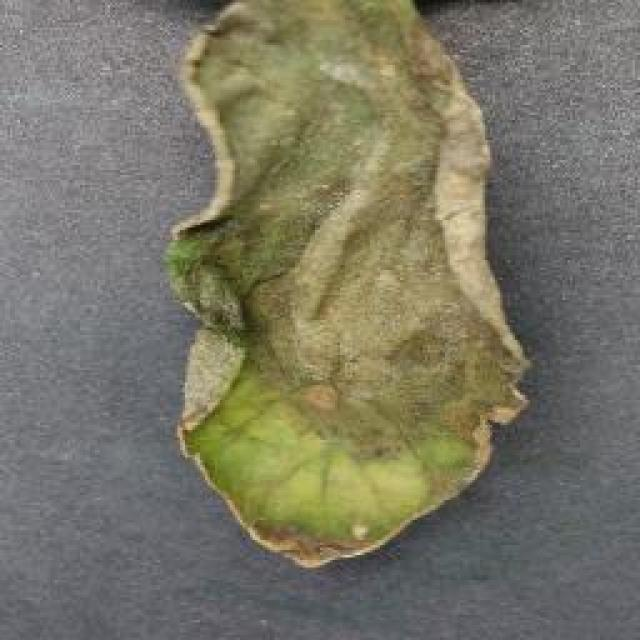Tomato late blight leaf: (162, 0, 530, 575)
